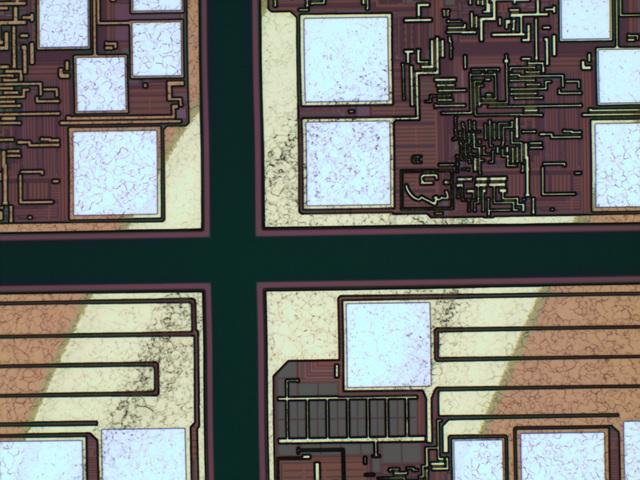COATING BAD: (10, 1, 640, 480)
